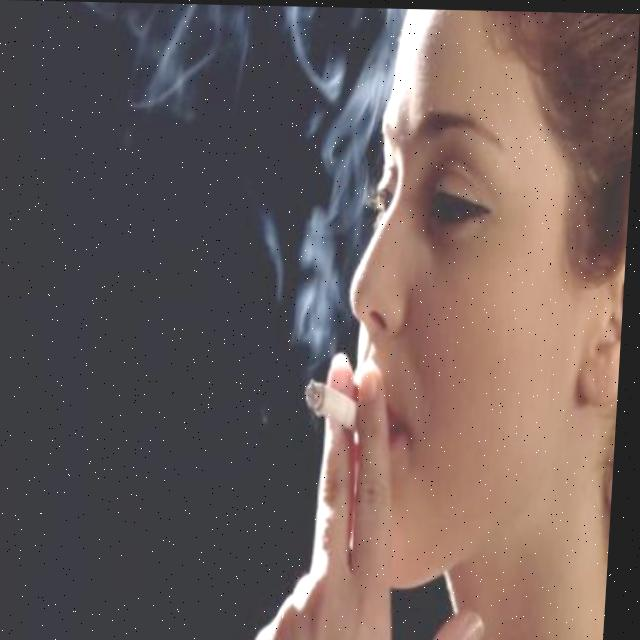cigarette: (309, 377, 372, 431)
